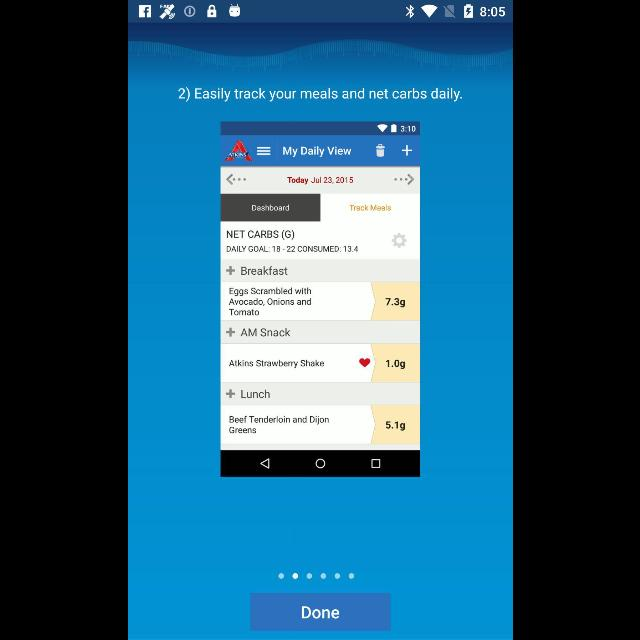image: (220, 121, 420, 477)
pageindicator: (278, 573, 354, 579)
text: (177, 88, 461, 102)
textbutton: (250, 594, 390, 630)
uppertaskbar: (128, 1, 512, 23)
